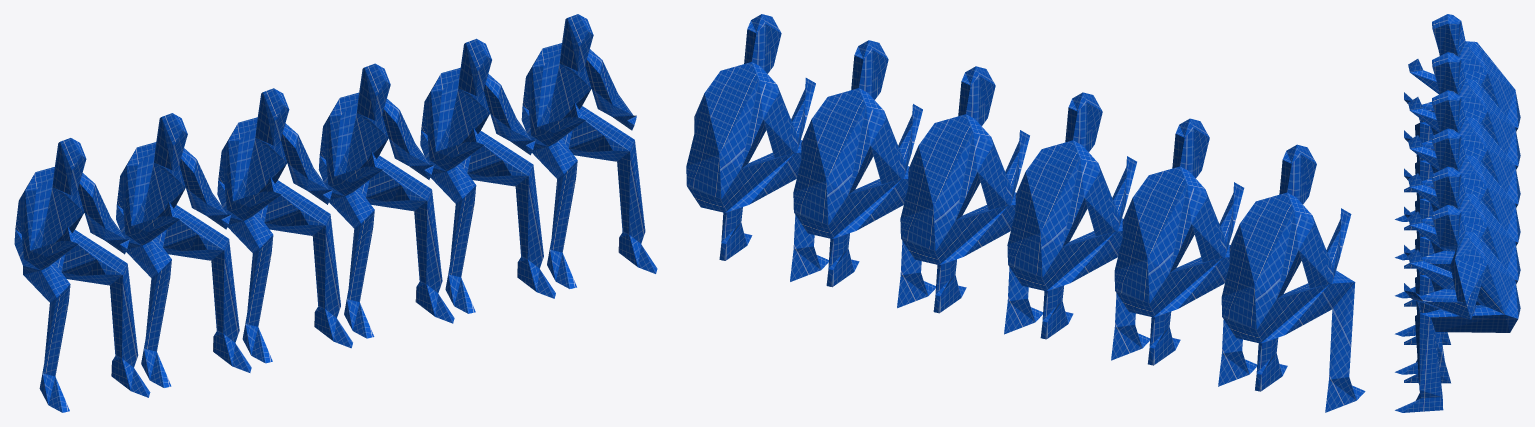
The model's file is 6people3.glb.
3 renders of one model, left to right at view 1: azimuth 30°, elevation 25°; view 2: azimuth 150°, elevation 25°; view 3: azimuth 270°, elevation 25°, orthographic. The views are drawn at different scales.
Visible parts, largest first — view 1: Man04; view 2: Man04; view 3: Man04.
Part boxes in pixels (x1=…): Man04: x1=14, y1=14, x2=657, y2=412; Man04: x1=686, y1=14, x2=1365, y2=412; Man04: x1=1395, y1=14, x2=1520, y2=412.
Size of the model in its own units: 6.73 by 2.64 by 1.59.
1 material, 1 textured.
